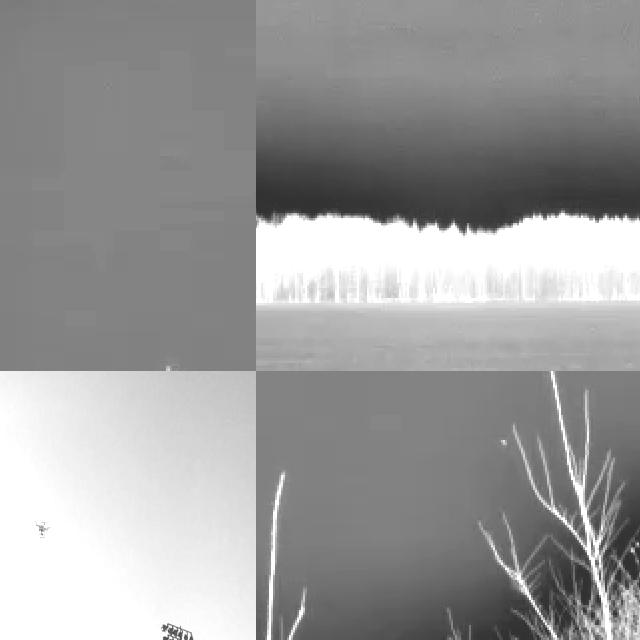0: (492, 432, 508, 458)
drone: (33, 515, 49, 540)
